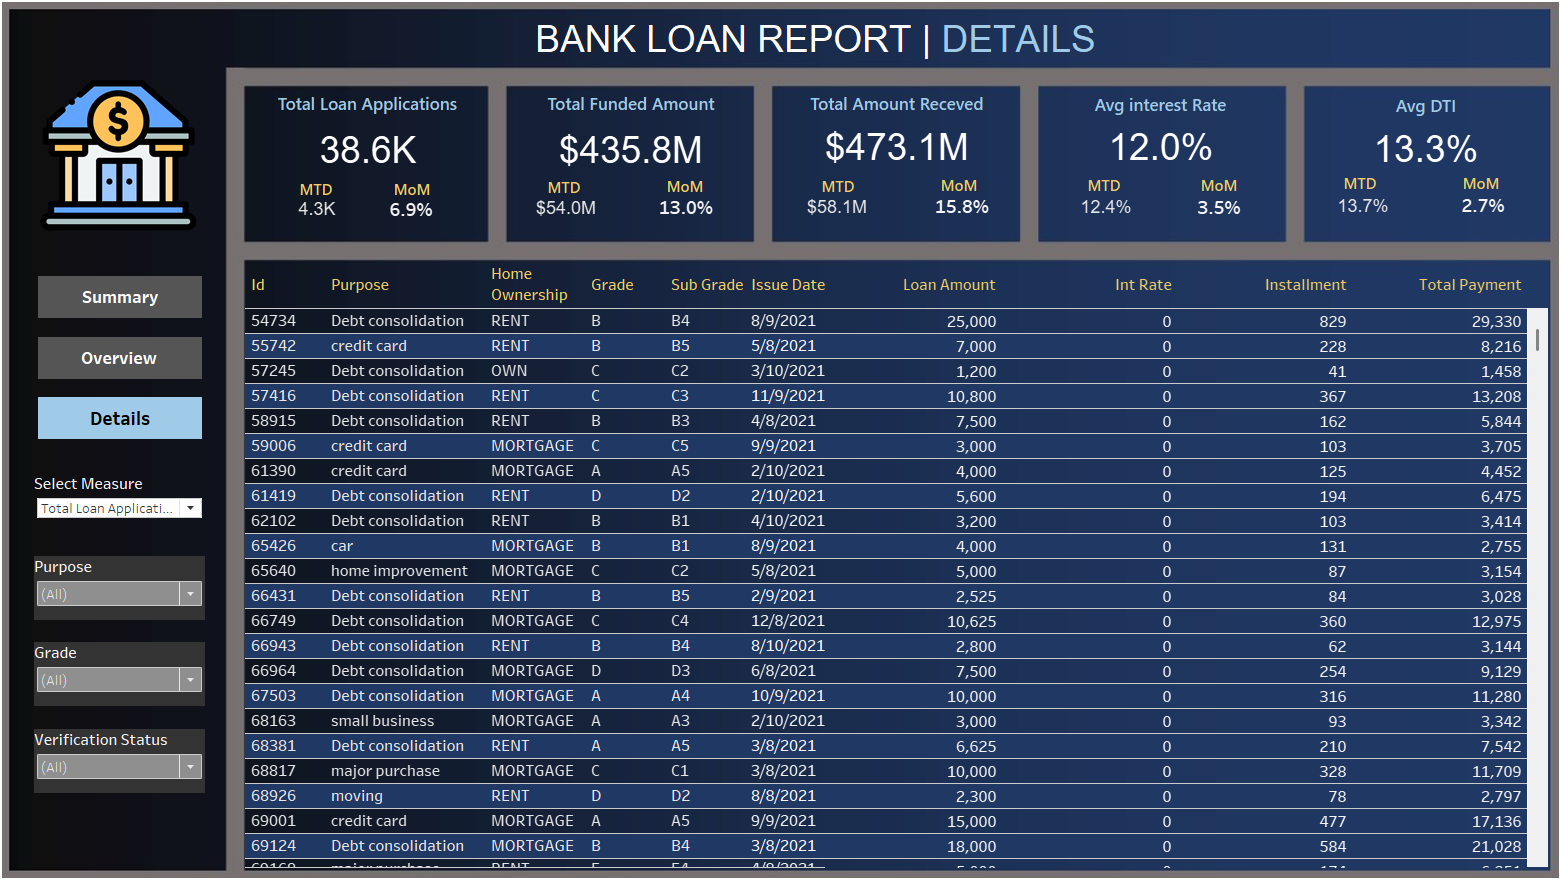

The page's visual inventory and layout, read from the dashboard file:
{"tool":"tableau","page":{"name":"DETAILS","canvas":[1600,900],"ordinal":0},"visuals":[{"type":"image","param":"Image/Tableau Background 3.jpg","box":[8,8,1584,884]},{"type":"text","box":[551,21,614,58]},{"type":"image","param":"Image/bank.png","box":[59,86,156,158]},{"type":"worksheet","title":"Total Loan Applications","mark":"Automatic","box":[265,98,243,87]},{"type":"worksheet","title":"Total Funded Amount","mark":"Automatic","box":[526,98,248,88]},{"type":"worksheet","title":"Total Amount Receved","mark":"Automatic","box":[791,98,250,82]},{"type":"worksheet","title":"Avg interest Rate","mark":"Automatic","box":[1056,99,247,80]},{"type":"worksheet","title":"Avg DTI","mark":"Automatic","box":[1322,100,246,82]},{"type":"text","box":[1357,178,44,30]},{"type":"text","box":[1478,178,44,30]},{"type":"text","box":[956,180,44,30]},{"type":"text","box":[1101,180,44,30]},{"type":"text","box":[1216,180,44,30]},{"type":"text","box":[682,181,44,30]},{"type":"text","box":[835,181,44,30]},{"type":"text","box":[561,182,44,30]},{"type":"text","box":[313,184,44,30]},{"type":"text","box":[409,184,44,30]},{"type":"worksheet","title":"MTD Total Loan Applications","mark":"Automatic","box":[296,197,79,44]},{"type":"worksheet","title":"MoM Total Amount Receved","mark":"Automatic","box":[937,199,88,34]},{"type":"worksheet","title":"MTD Avg DTI","mark":"Automatic","box":[1347,199,69,34]},{"type":"worksheet","title":"MoM Avg DTI","mark":"Automatic","box":[1468,200,68,29]},{"type":"worksheet","title":"MoM Loan Applications","mark":"Automatic","box":[393,201,74,36]},{"type":"worksheet","title":"MoM Total Funded Amount","mark":"Automatic","box":[663,201,83,32]},{"type":"worksheet","title":"MTD Total Amount Receved","mark":"Automatic","box":[818,201,76,31]},{"type":"worksheet","title":"MTD Avg Int Rate","mark":"Automatic","box":[1094,201,62,32]},{"type":"worksheet","title":"MoM Avg Int Rate","mark":"Automatic","box":[1202,201,71,32]},{"type":"worksheet","title":"MTD Total Funded Amount","mark":"Automatic","box":[541,202,88,31]},{"type":"worksheet","title":"Details Tab","mark":"Automatic","rows":["id","purpose","home_ownership","grade","sub_grade","issue_date"],"box":[264,270,1303,608]},{"type":"dashboard-object","box":[57,286,164,42]},{"type":"dashboard-object","box":[57,347,164,42]},{"type":"dashboard-object","box":[57,407,164,42]},{"type":"parameter","param":"[Parameters].[Parameter 1]","box":[53,483,171,62]},{"type":"filter","title":"Avg DTI","param":"[federated.0jnou7y1eobgyh1b79fc714me99y].[none:purpose:nk]","box":[53,566,171,64]},{"type":"filter","title":"Avg DTI","param":"[federated.0jnou7y1eobgyh1b79fc714me99y].[none:grade:nk]","box":[53,652,171,64]},{"type":"filter","title":"Avg DTI","param":"[federated.0jnou7y1eobgyh1b79fc714me99y].[none:verification_status:nk]","box":[53,739,171,64]}]}

Visuals, with their boxes in screenshot pixels (x1, y1, x2, y2), scaled from the page's 1600x900 canvas onto the 1561x879 screenshot:
image: [8,8,1553,871]
text: [538,21,1137,77]
image: [58,84,210,238]
"Total Loan Applications" worksheet: [259,96,496,181]
"Total Funded Amount" worksheet: [513,96,755,182]
"Total Amount Receved" worksheet: [772,96,1016,176]
"Avg interest Rate" worksheet: [1030,97,1271,175]
"Avg DTI" worksheet: [1290,98,1530,178]
text: [1324,174,1367,203]
text: [1442,174,1485,203]
text: [933,176,976,205]
text: [1074,176,1117,205]
text: [1186,176,1229,205]
text: [665,177,708,206]
text: [815,177,858,206]
text: [547,178,590,207]
text: [305,180,348,209]
text: [399,180,442,209]
"MTD Total Loan Applications" worksheet: [289,192,366,235]
"MoM Total Amount Receved" worksheet: [914,194,1000,228]
"MTD Avg DTI" worksheet: [1314,194,1381,228]
"MoM Avg DTI" worksheet: [1432,195,1499,224]
"MoM Loan Applications" worksheet: [383,196,456,231]
"MoM Total Funded Amount" worksheet: [647,196,728,228]
"MTD Total Amount Receved" worksheet: [798,196,872,227]
"MTD Avg Int Rate" worksheet: [1067,196,1128,228]
"MoM Avg Int Rate" worksheet: [1173,196,1242,228]
"MTD Total Funded Amount" worksheet: [528,197,614,228]
"Details Tab" worksheet: [258,264,1529,858]
dashboard-object: [56,279,216,320]
dashboard-object: [56,339,216,380]
dashboard-object: [56,398,216,439]
parameter: [52,472,219,532]
"Avg DTI" filter: [52,553,219,615]
"Avg DTI" filter: [52,637,219,699]
"Avg DTI" filter: [52,722,219,784]
